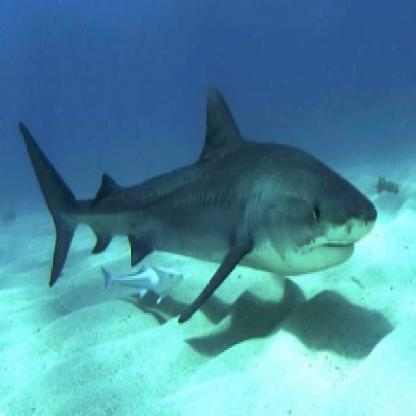shark: (16, 75, 382, 324)
